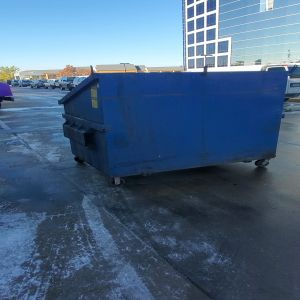Dumpster: (58, 74, 286, 187)
